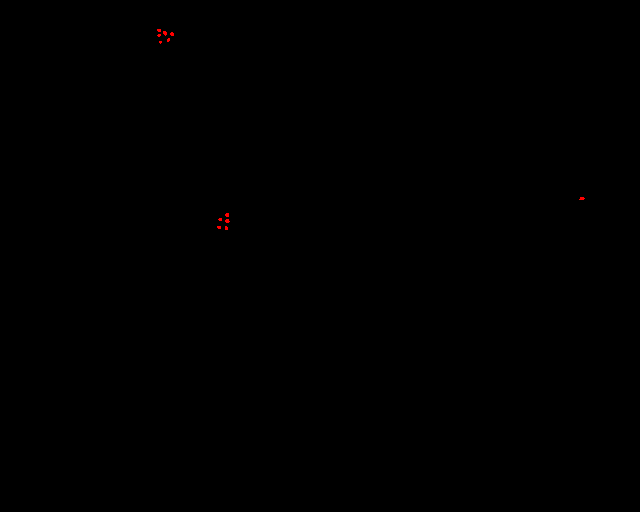Target: (163, 31, 167, 36), (225, 219, 230, 223), (579, 197, 585, 200), (170, 32, 174, 36), (225, 213, 229, 217), (157, 29, 161, 32), (157, 34, 161, 37), (167, 38, 170, 42), (218, 218, 222, 221), (217, 226, 221, 229), (225, 226, 228, 230), (159, 41, 162, 44)
